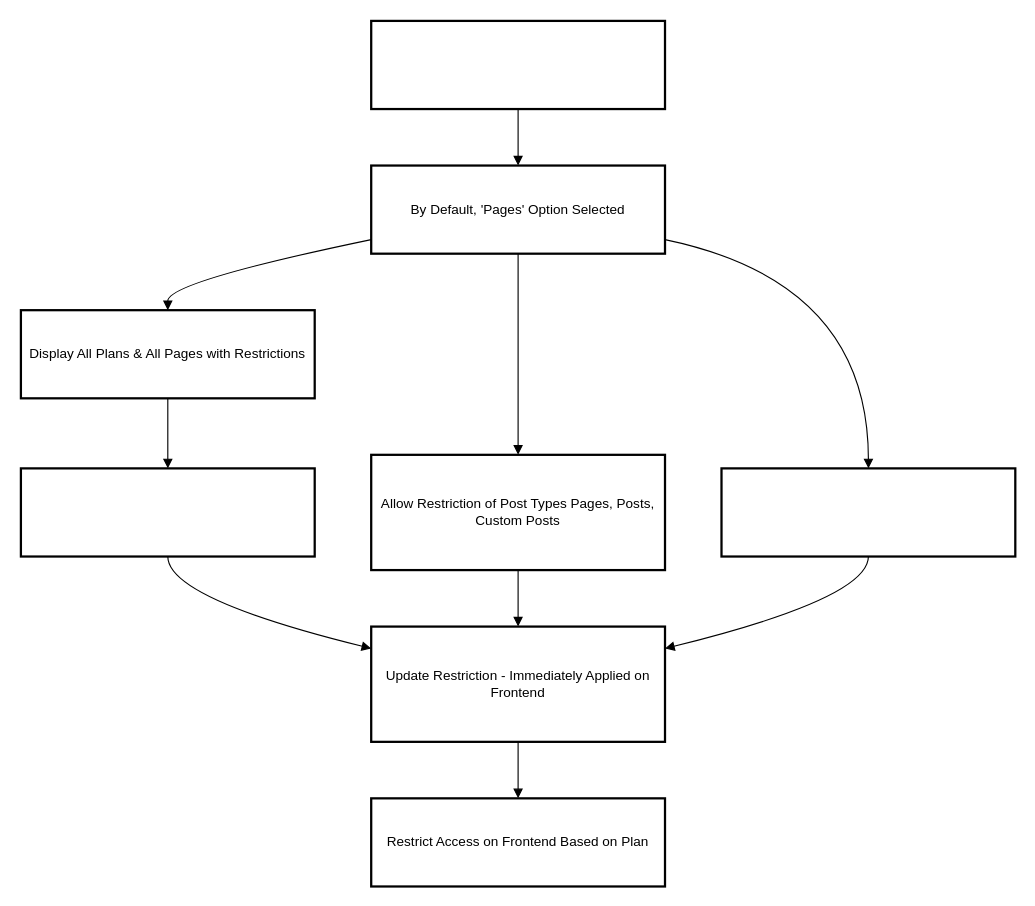
Image size: 1035x906. Some labels were removed from this diagram. The centre of each missing label's shape, as x and y in pixels:
"Allow Restriction by Tags, Taxonomy, & Special Pages" belongs at point (868, 512).
"Allow Restriction of Pages for Plans" belongs at point (167, 512).
"Navigate to Content Access Rules" belongs at point (518, 64).
